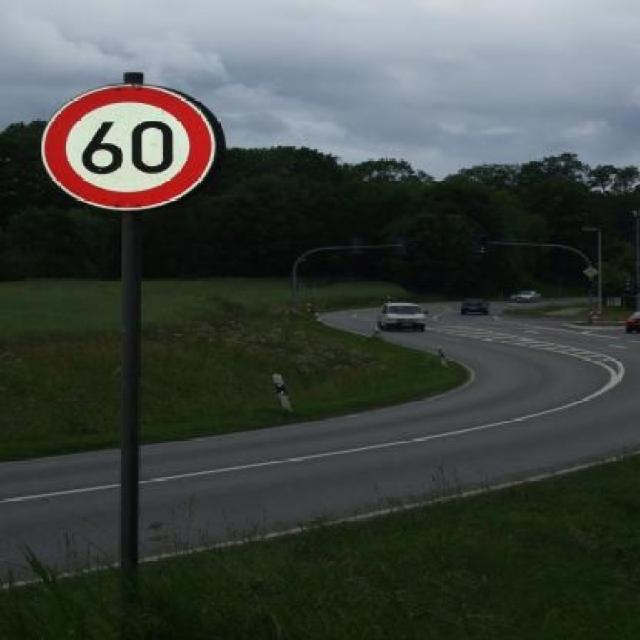forb_speed_over_60: (40, 82, 220, 213)
